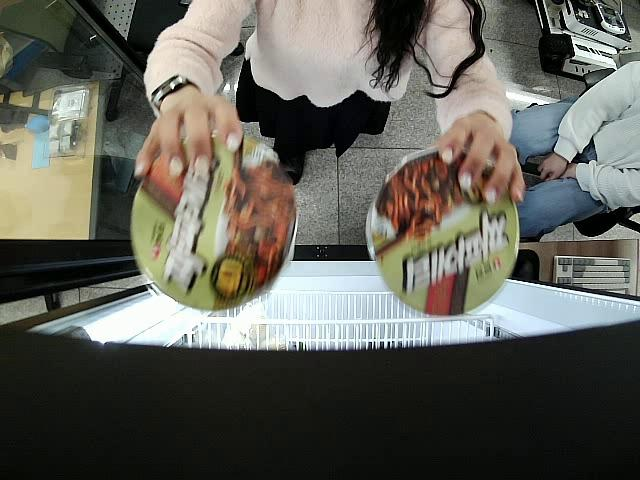00_hand: (130, 90, 245, 179), (440, 119, 526, 204)
03_chapagetti_L: (129, 131, 301, 311), (369, 149, 521, 316)
